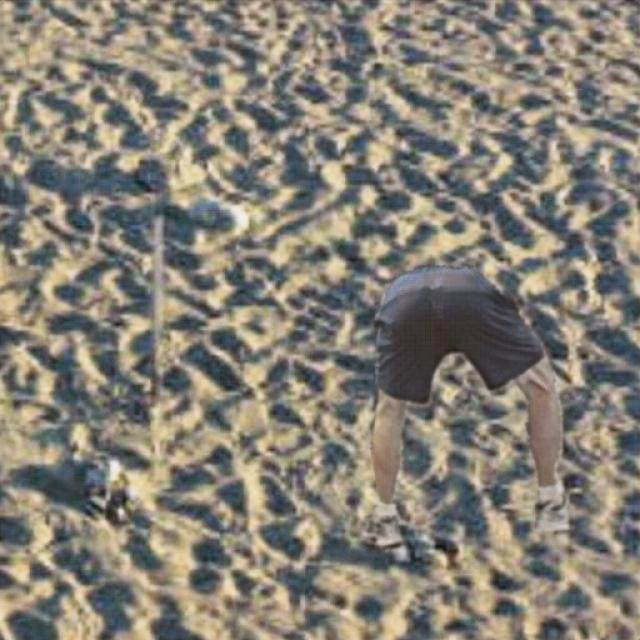Person in Rubble: (362, 265, 568, 550)
